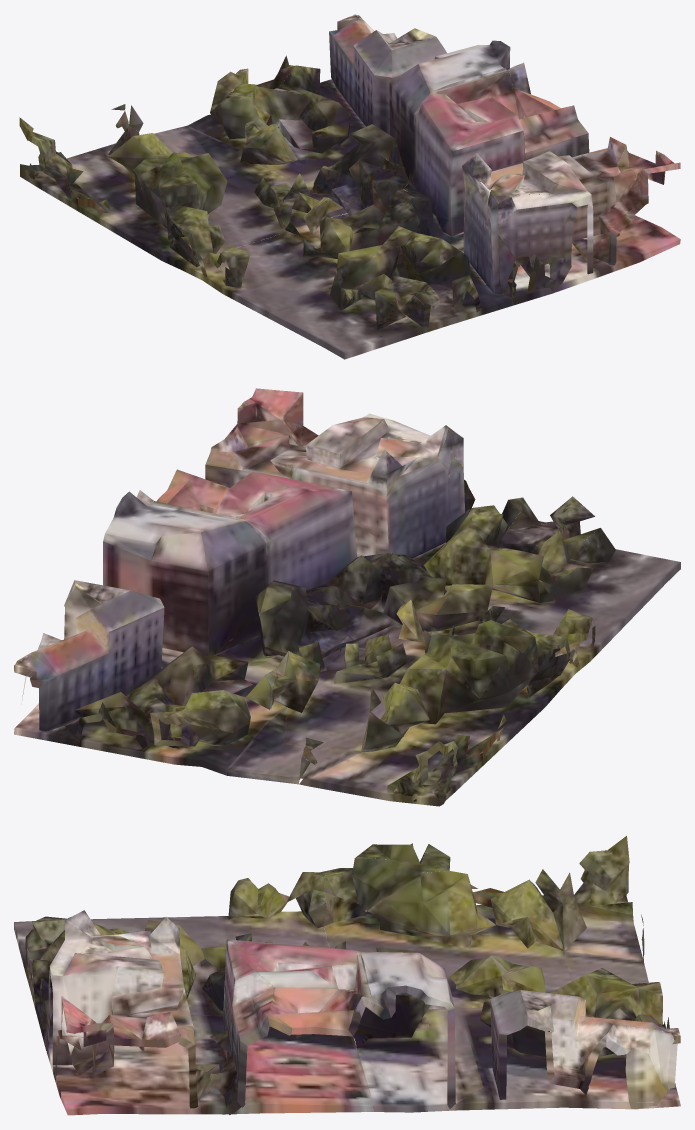
The picture shows the model from 3 angles, top to bottom: view 1: azimuth 30°, elevation 25°; view 2: azimuth 150°, elevation 25°; view 3: azimuth 270°, elevation 25°; orthographic projection. The views are drawn at different scales.
Visible parts, largest first — view 1: Mesh_0; view 2: Mesh_0; view 3: Mesh_0.
Boxes of the visible parts, <box> form: Mesh_0: <box>19,14,680,359</box>; Mesh_0: <box>14,388,680,806</box>; Mesh_0: <box>14,836,680,1115</box>.
Size of the model in its own units: 135 by 37.27 by 165.
2 materials, 2 textured.
